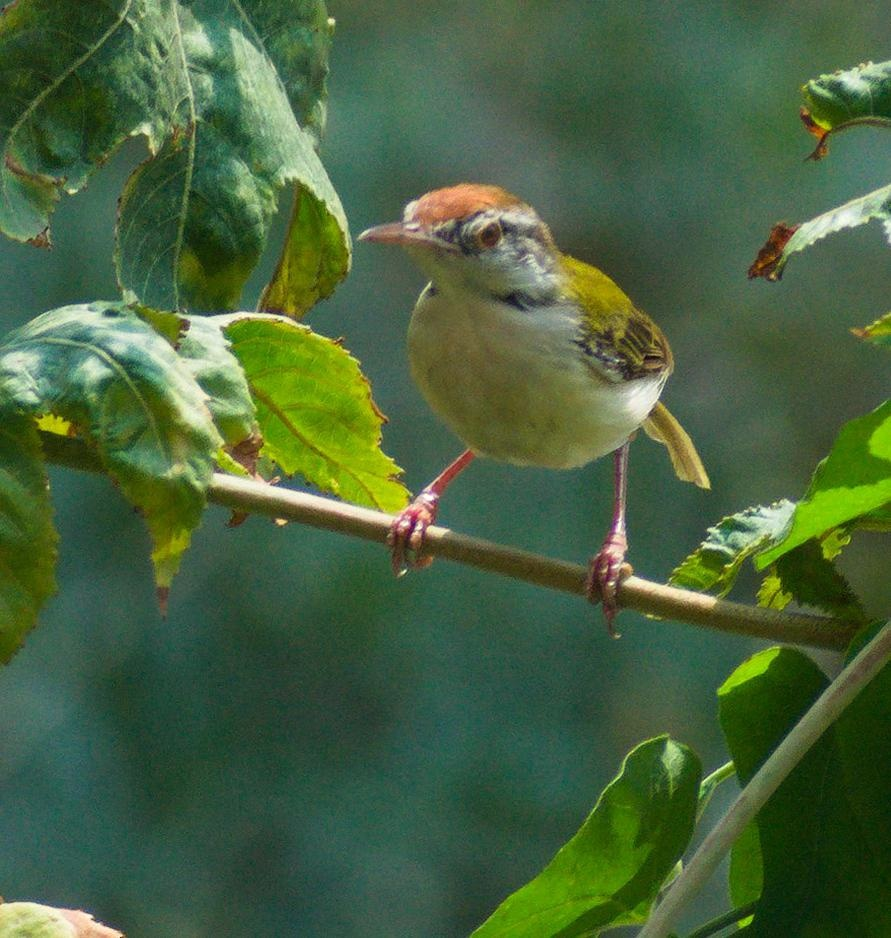tailorbird: (381, 132, 756, 596)
